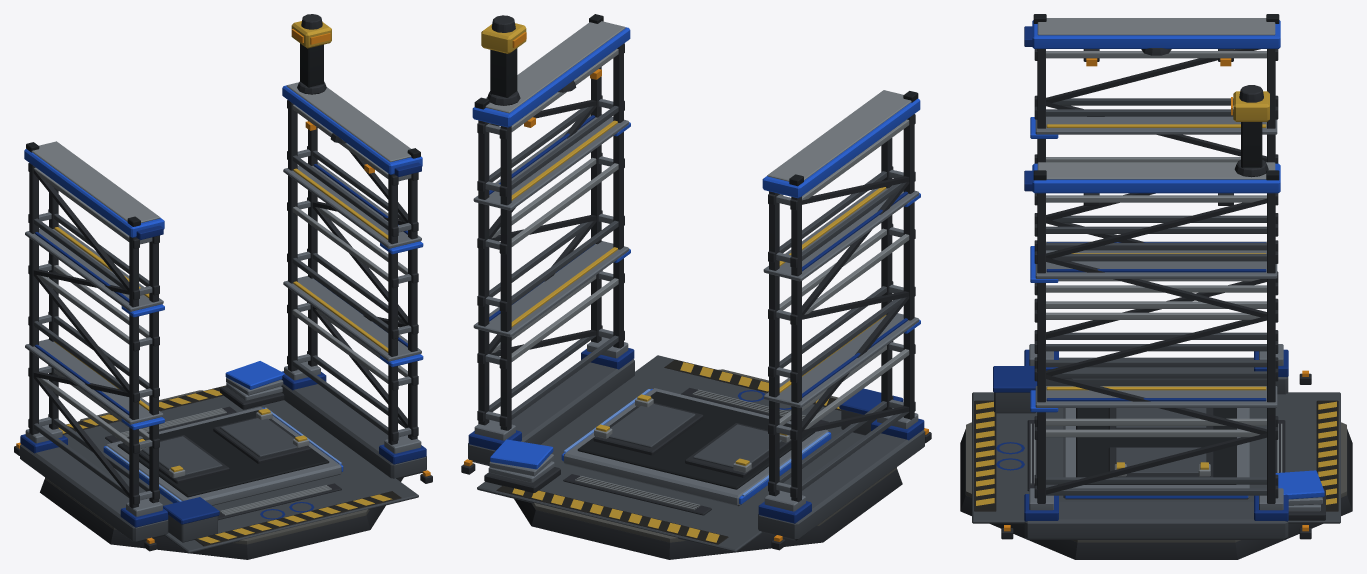
Rendered from gantry.glb.
3 views of the same model, side by side, from view 1: azimuth 30°, elevation 25°; view 2: azimuth 150°, elevation 25°; view 3: azimuth 270°, elevation 25° (orthographic). The views are drawn at different scales.
Visible parts, largest first — view 1: hull; view 2: hull; view 3: hull.
Part boxes in pixels (<box>): hull: <box>14,14,432,559</box>; hull: <box>461,14,931,559</box>; hull: <box>960,14,1352,559</box>.
Bounding box in the file's own units: 2.96 × 3.84 × 2.96.
